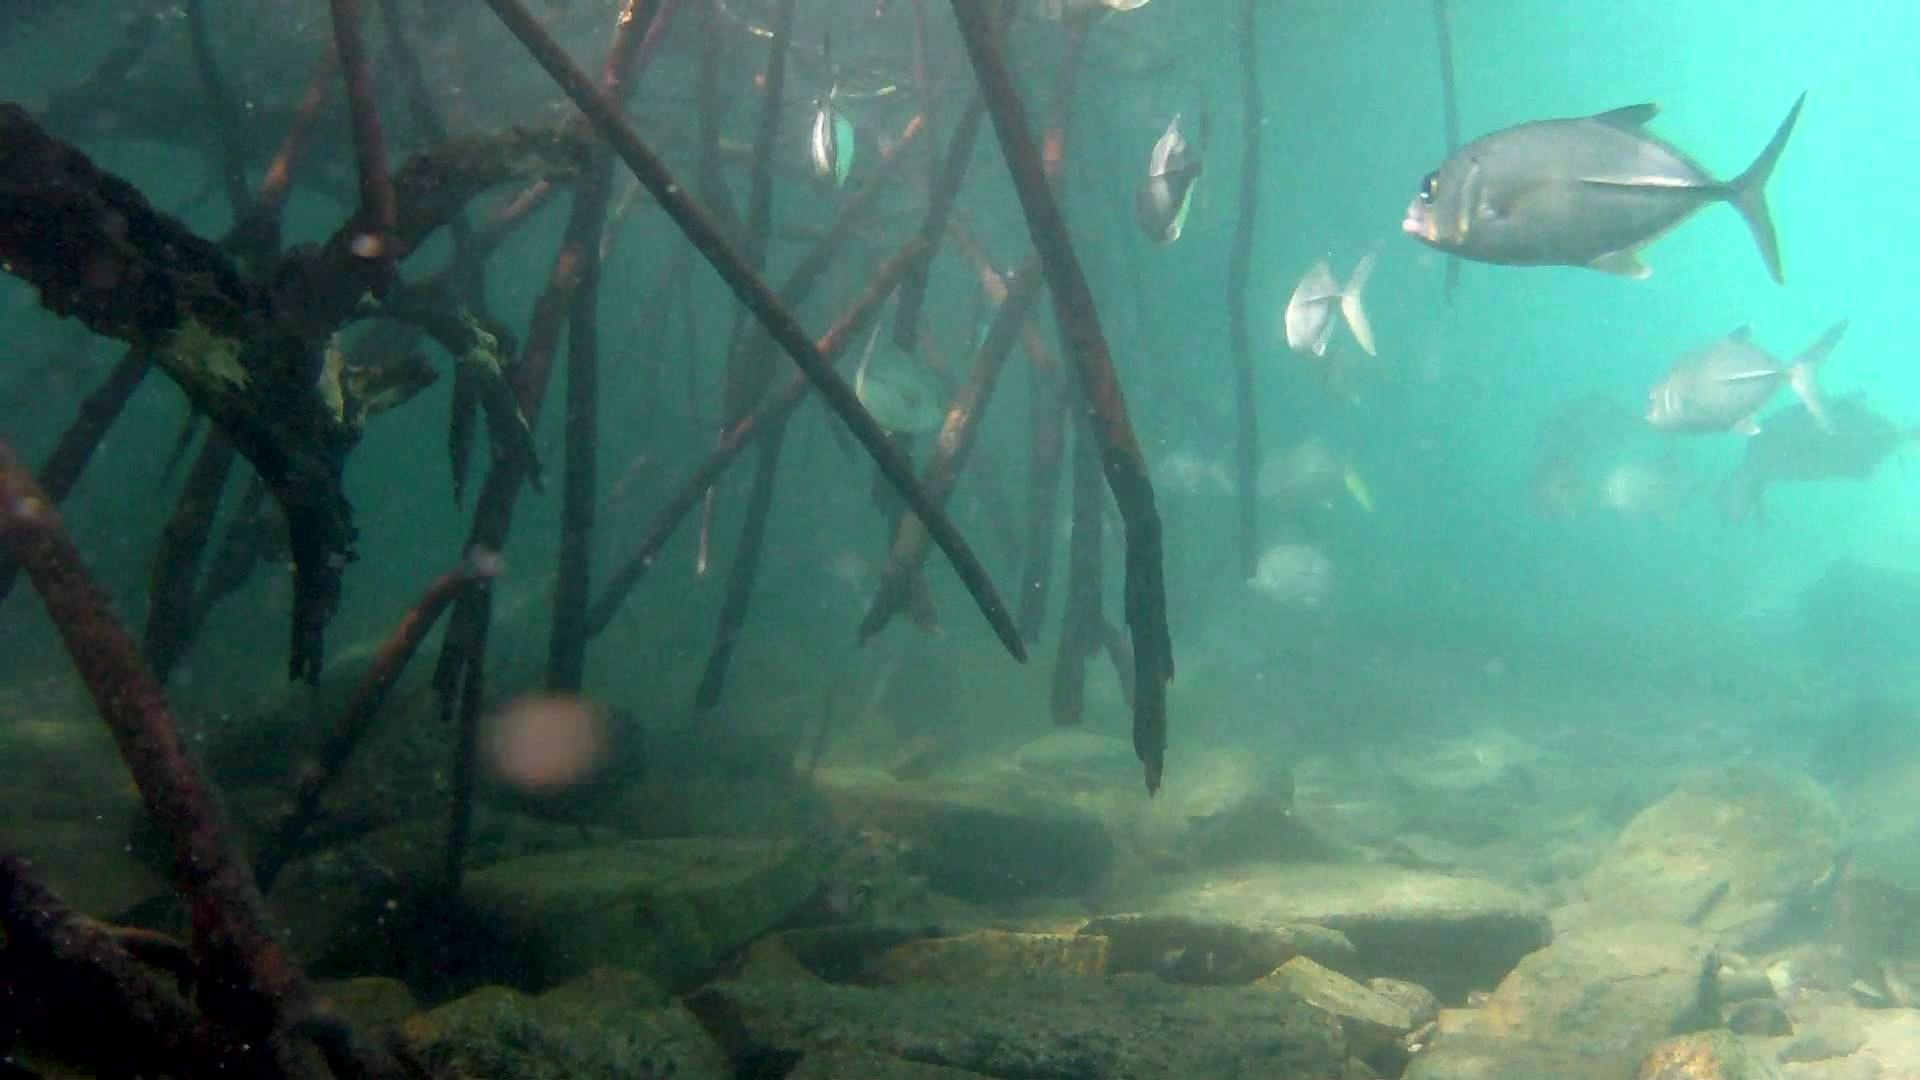caranx: (1394, 75, 1807, 290)
